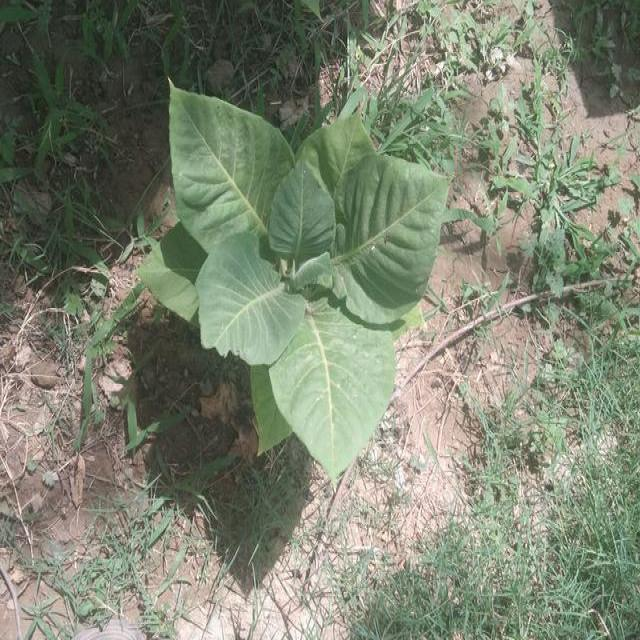crop: (150, 70, 446, 475)
